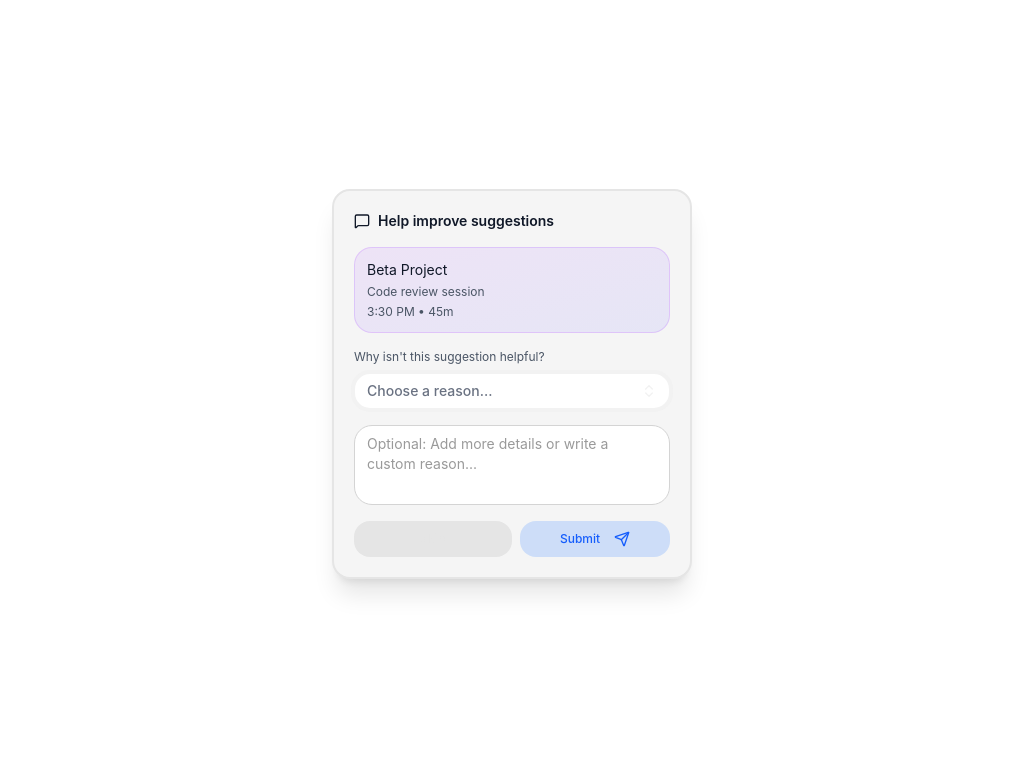
Scenario: DismissFeedbackModal › Reason Selection via Combobox › should open dropdown when combobox is clicked
Click the dropdown.
click(430, 390)  # box [354,373,670,409]
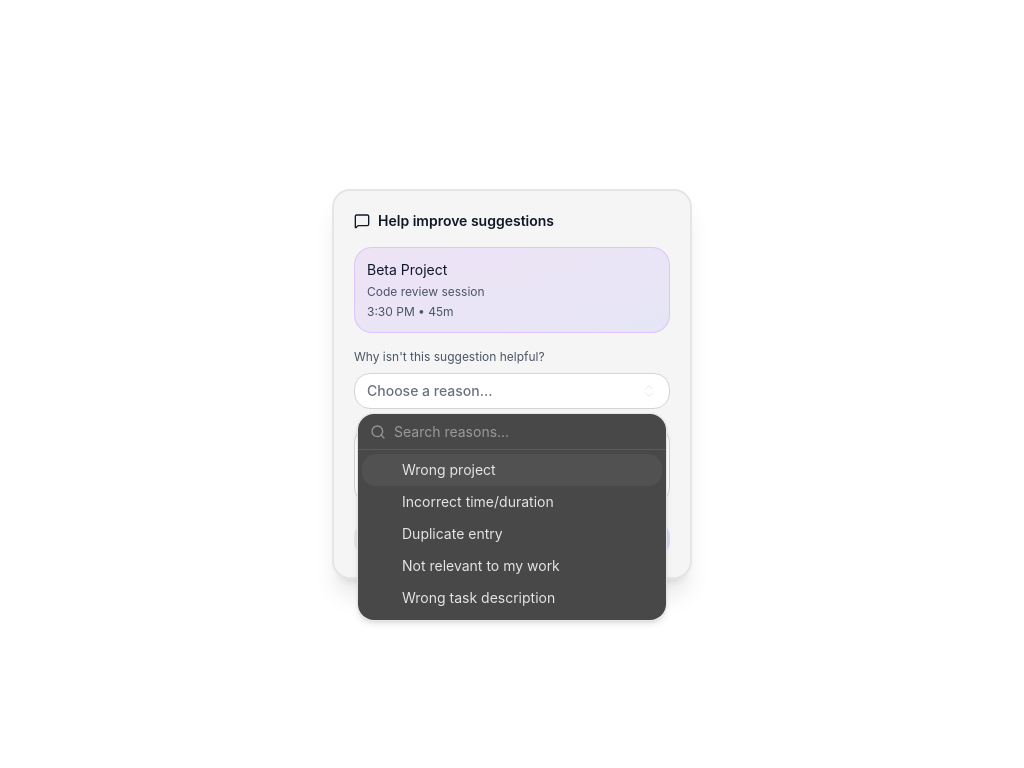
Check: the text "Wrong project" is shown, box [402,460,496,480]
Check: the text "Duplicate entry" is shown, box [402,524,503,544]
Check: the text "Not relevant to my work" is shown, box [402,556,560,576]
